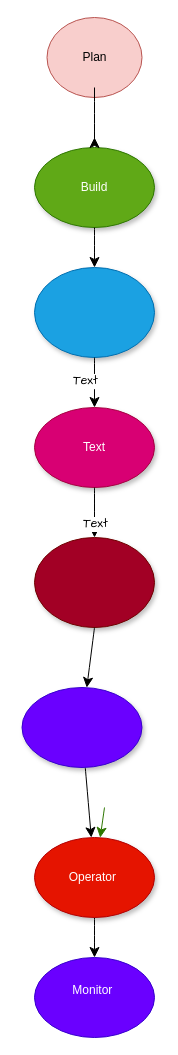
Some shapes in this 178 by 1055 pixel diagram are drawn without their labels. The centre of each missing label's shape, as x and y in pixels:
Deploy: pixel 82 728
Devlop: pixel 95 313
Relif: pixel 95 583
